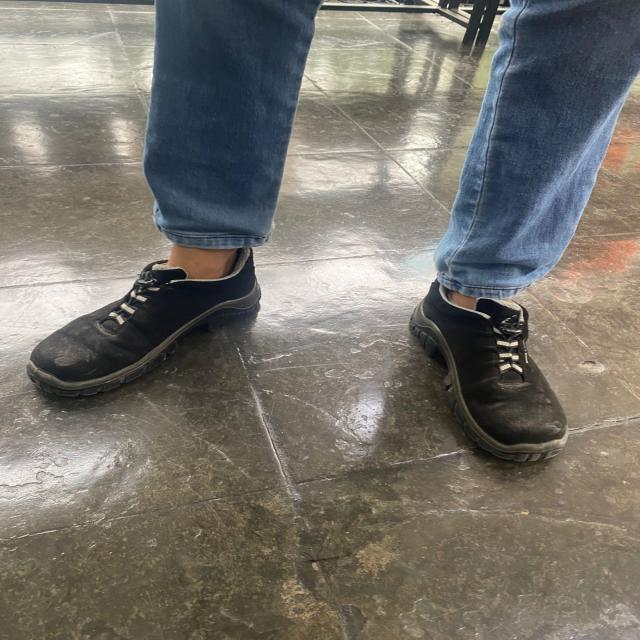BOTA: (23, 253, 262, 393), (410, 284, 564, 458)
